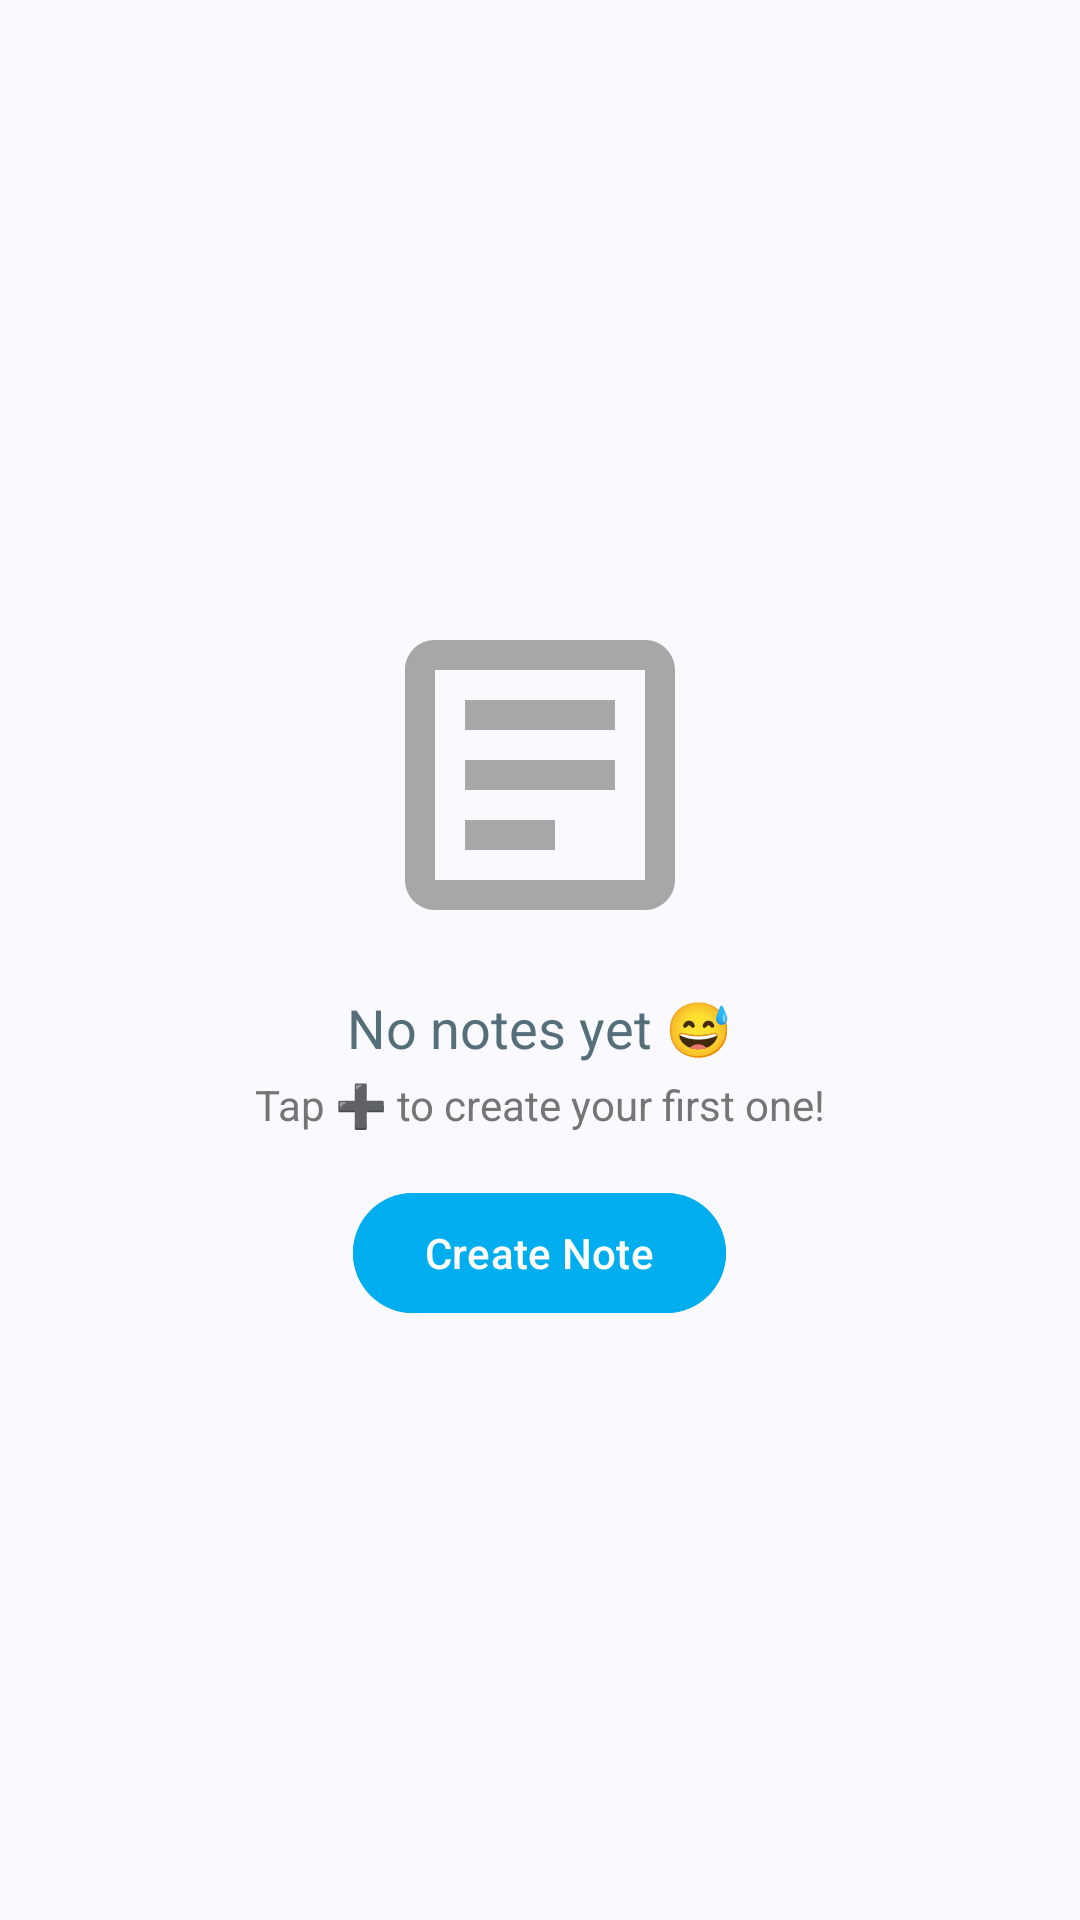

Icon bounding boxes for this 1080px×1920px phone screenshot, format [x1=x1, y1=y1, x2=x2, y2=y2]:
empty notes: [x1=405, y1=640, x2=675, y2=910]
